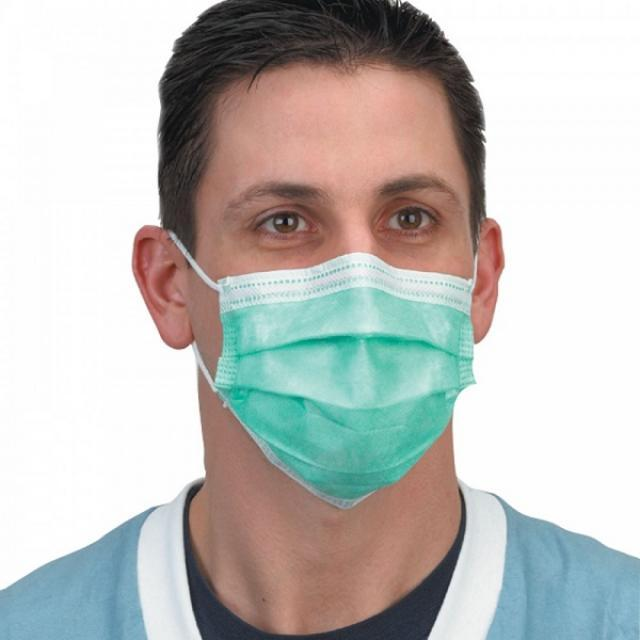1_mascarilla: (204, 256, 476, 509)
